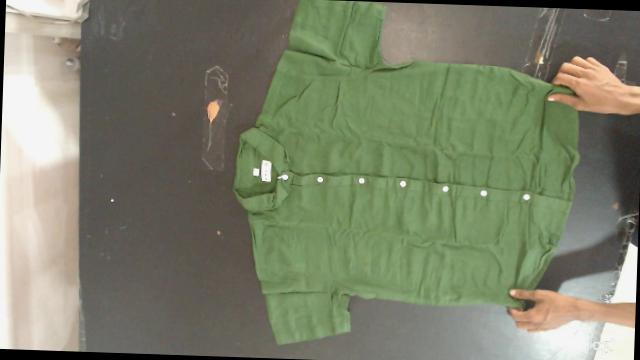new-garment: (233, 0, 578, 344)
